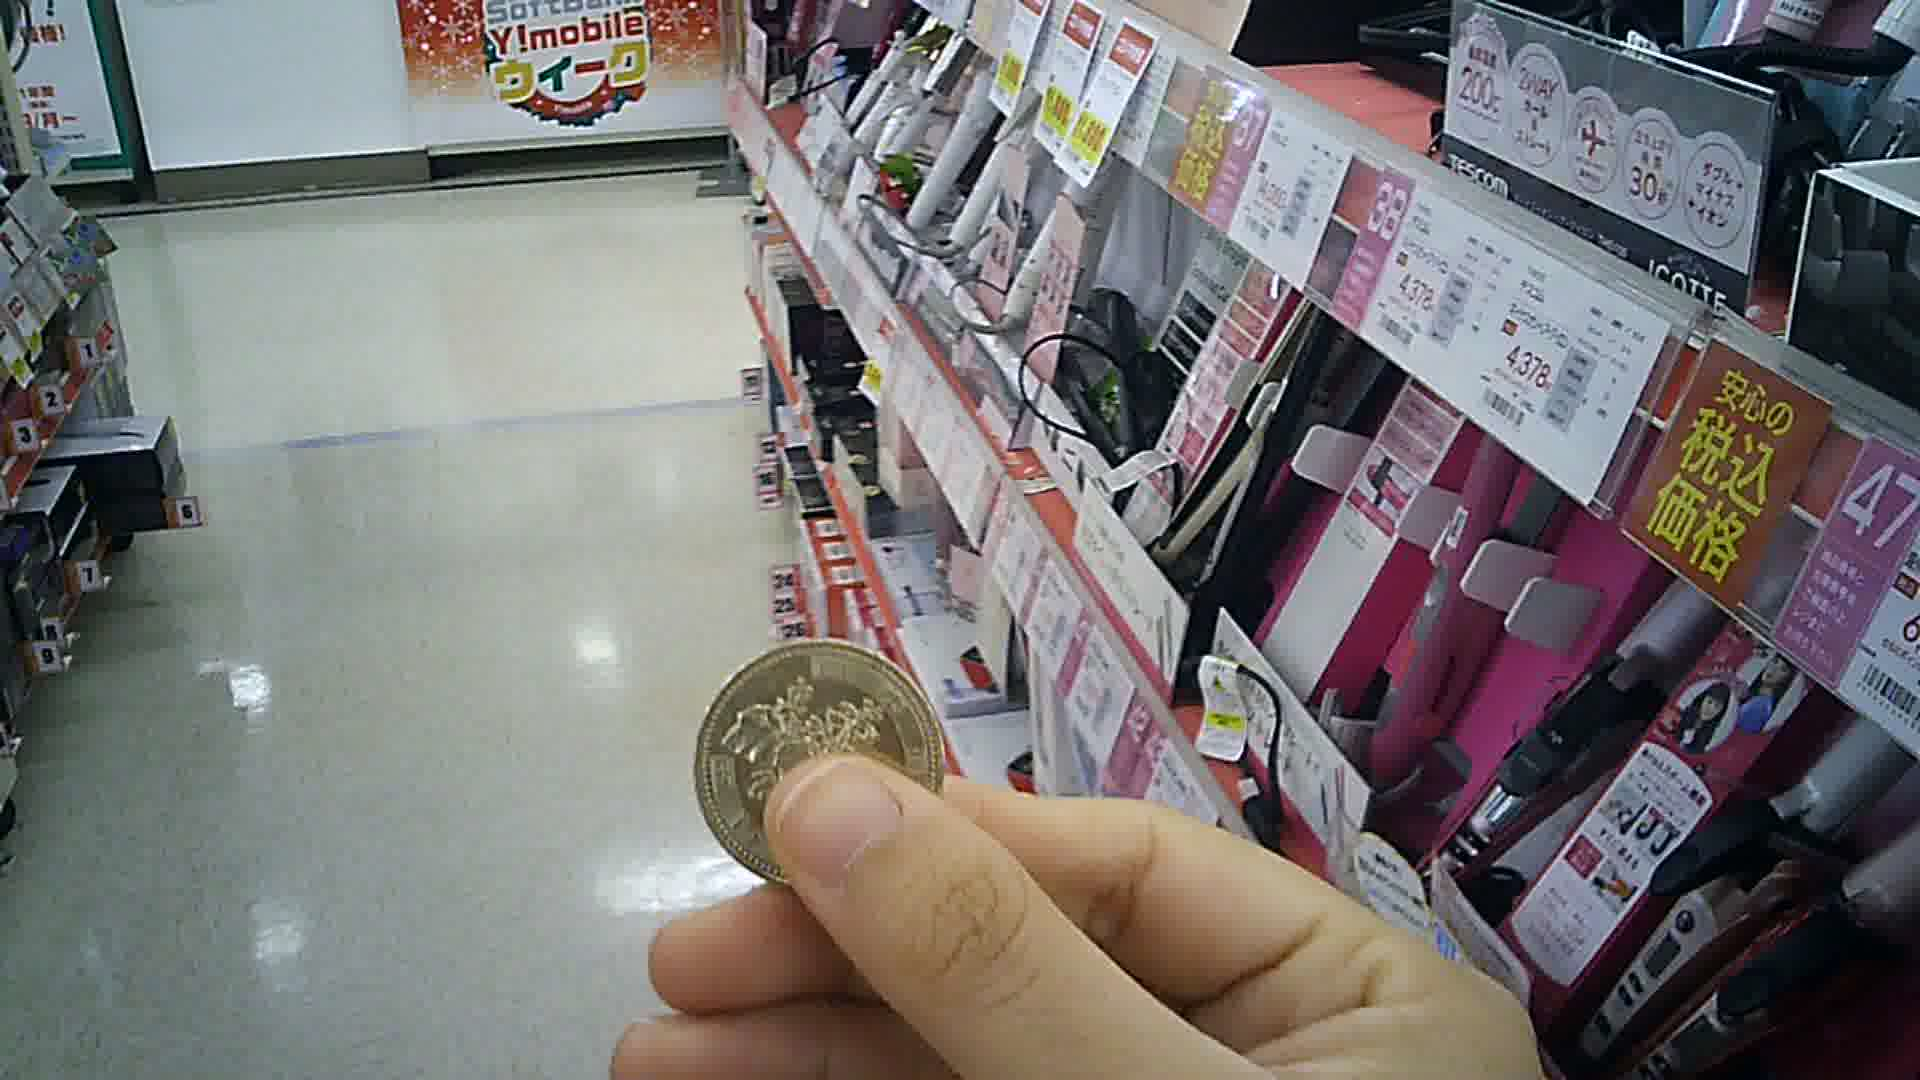500 Yen: (675, 632, 949, 894)
